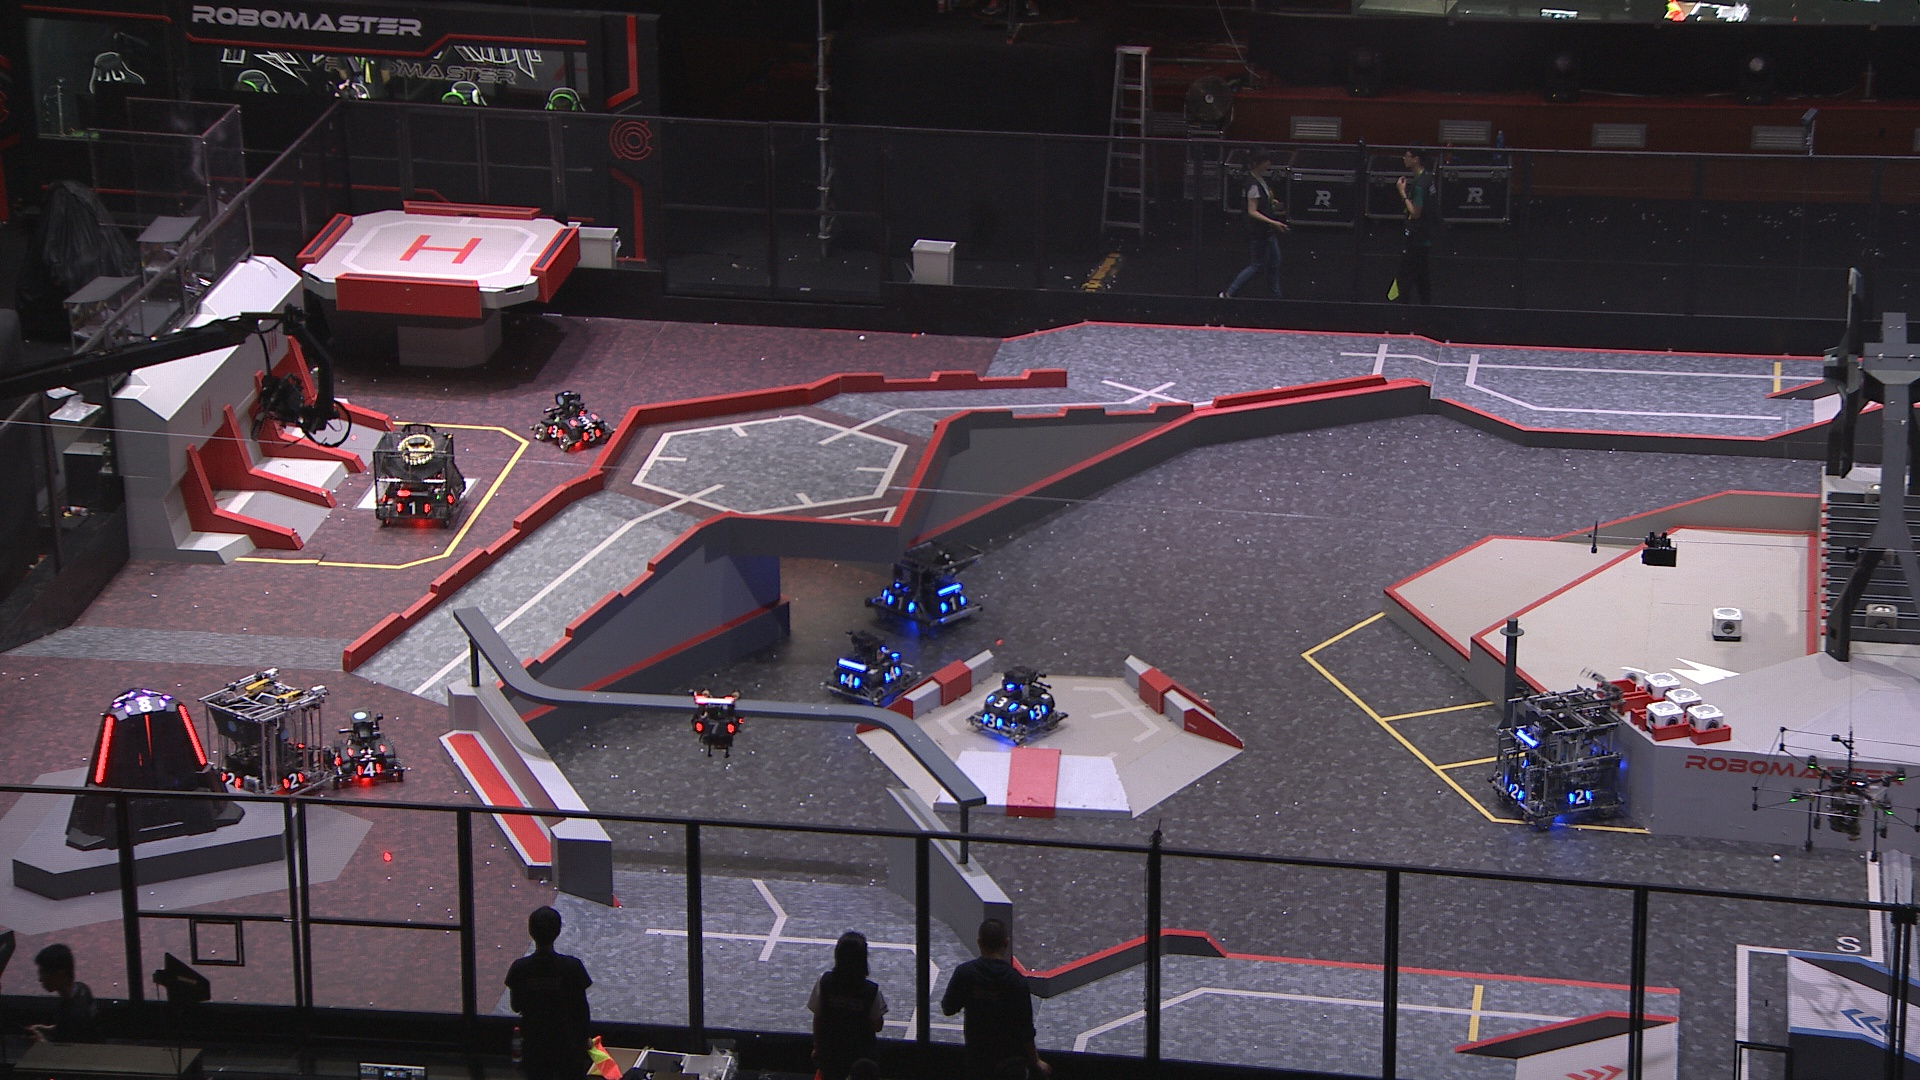armor: (177, 703, 207, 765), (91, 716, 113, 785), (396, 500, 433, 517), (882, 595, 916, 613), (695, 721, 735, 736), (142, 713, 154, 760), (837, 673, 862, 694), (986, 695, 1017, 712), (1567, 789, 1593, 807), (345, 745, 386, 757), (282, 770, 306, 789), (222, 771, 245, 790), (356, 764, 384, 779), (940, 595, 965, 612), (982, 712, 1005, 731), (566, 413, 599, 425), (579, 427, 603, 443), (880, 669, 903, 684), (1505, 783, 1524, 802), (1027, 704, 1046, 723), (546, 425, 564, 439), (328, 750, 340, 767), (446, 487, 458, 502)
base: (65, 683, 245, 851)
car: (1486, 679, 1629, 831), (199, 665, 339, 802), (864, 535, 989, 636), (371, 423, 463, 531), (965, 665, 1069, 744), (818, 629, 922, 703), (323, 711, 404, 787), (531, 389, 617, 451)
ignore: (124, 698, 167, 713), (107, 694, 131, 709)
watcher: (688, 688, 745, 757)
